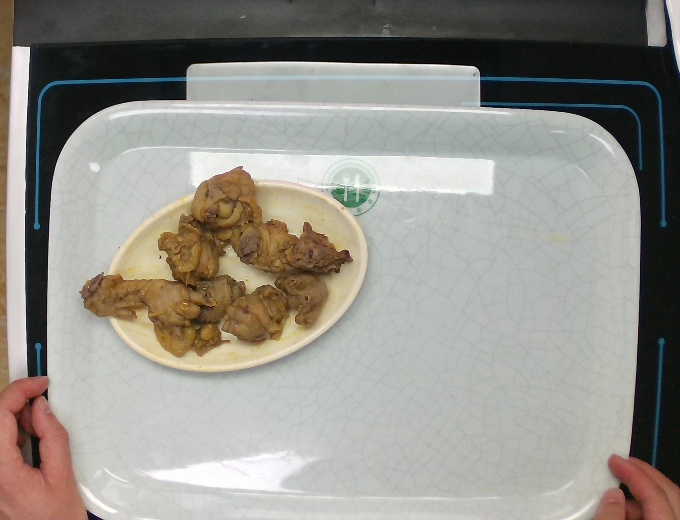JYsf-Tuo_Yuan_Wan: (95, 175, 371, 375)
